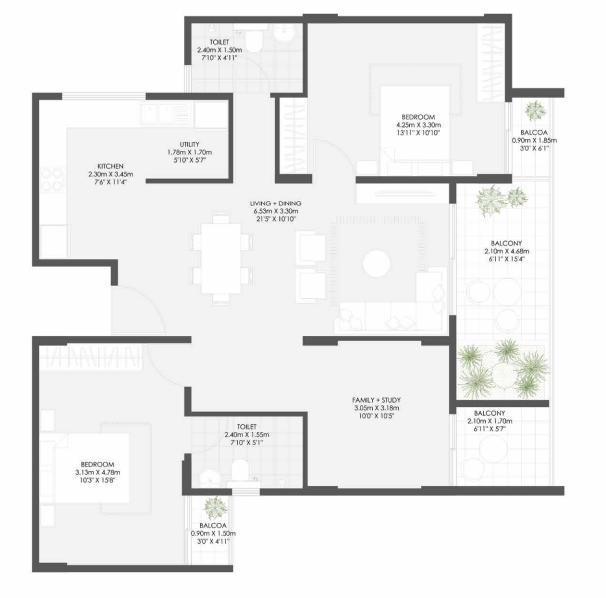Balcony: (456, 185, 551, 402), (455, 407, 551, 490)
Bedroom: (35, 342, 189, 568), (308, 19, 510, 177), (283, 100, 307, 175)
Dining Room: (148, 185, 289, 337)
Dining table: (184, 209, 256, 314)
Kitchen: (39, 101, 145, 261)
Living Room: (290, 188, 453, 339)
balcoa: (515, 93, 553, 175), (192, 496, 227, 565)
fridge: (40, 225, 71, 260)
study: (307, 345, 451, 490)
toilet: (186, 414, 306, 494), (188, 17, 305, 94)
utility: (146, 101, 227, 183)
washing-machine: (194, 101, 227, 132)
